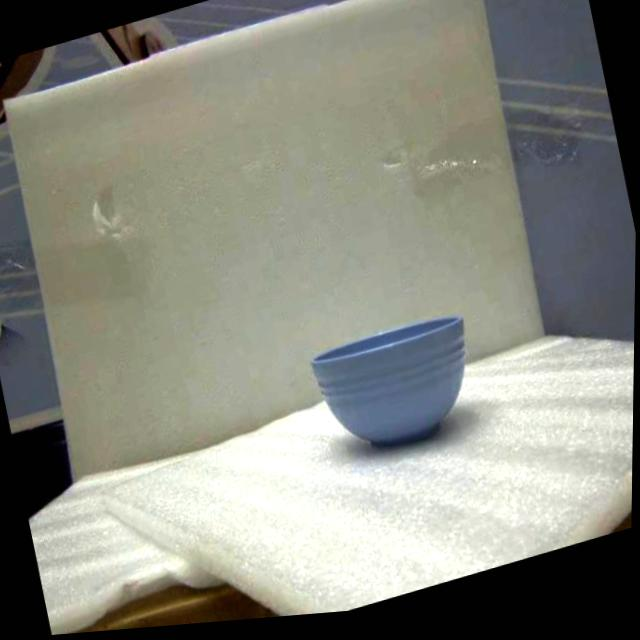Bowl: (312, 317, 464, 446)
